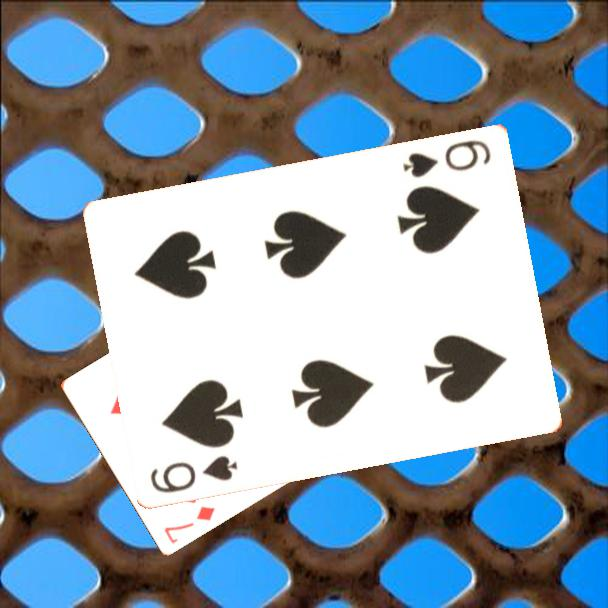d07: (160, 503, 218, 547)
s06: (399, 135, 494, 180), (147, 451, 241, 496)
